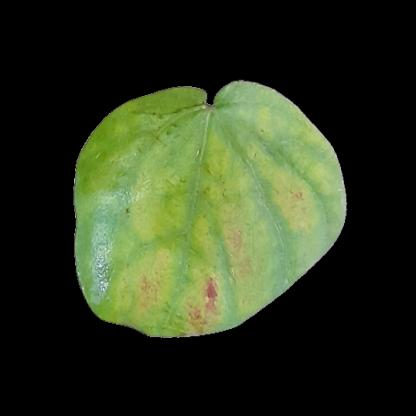curl_stage1: (119, 163, 260, 313), (259, 117, 327, 257)
